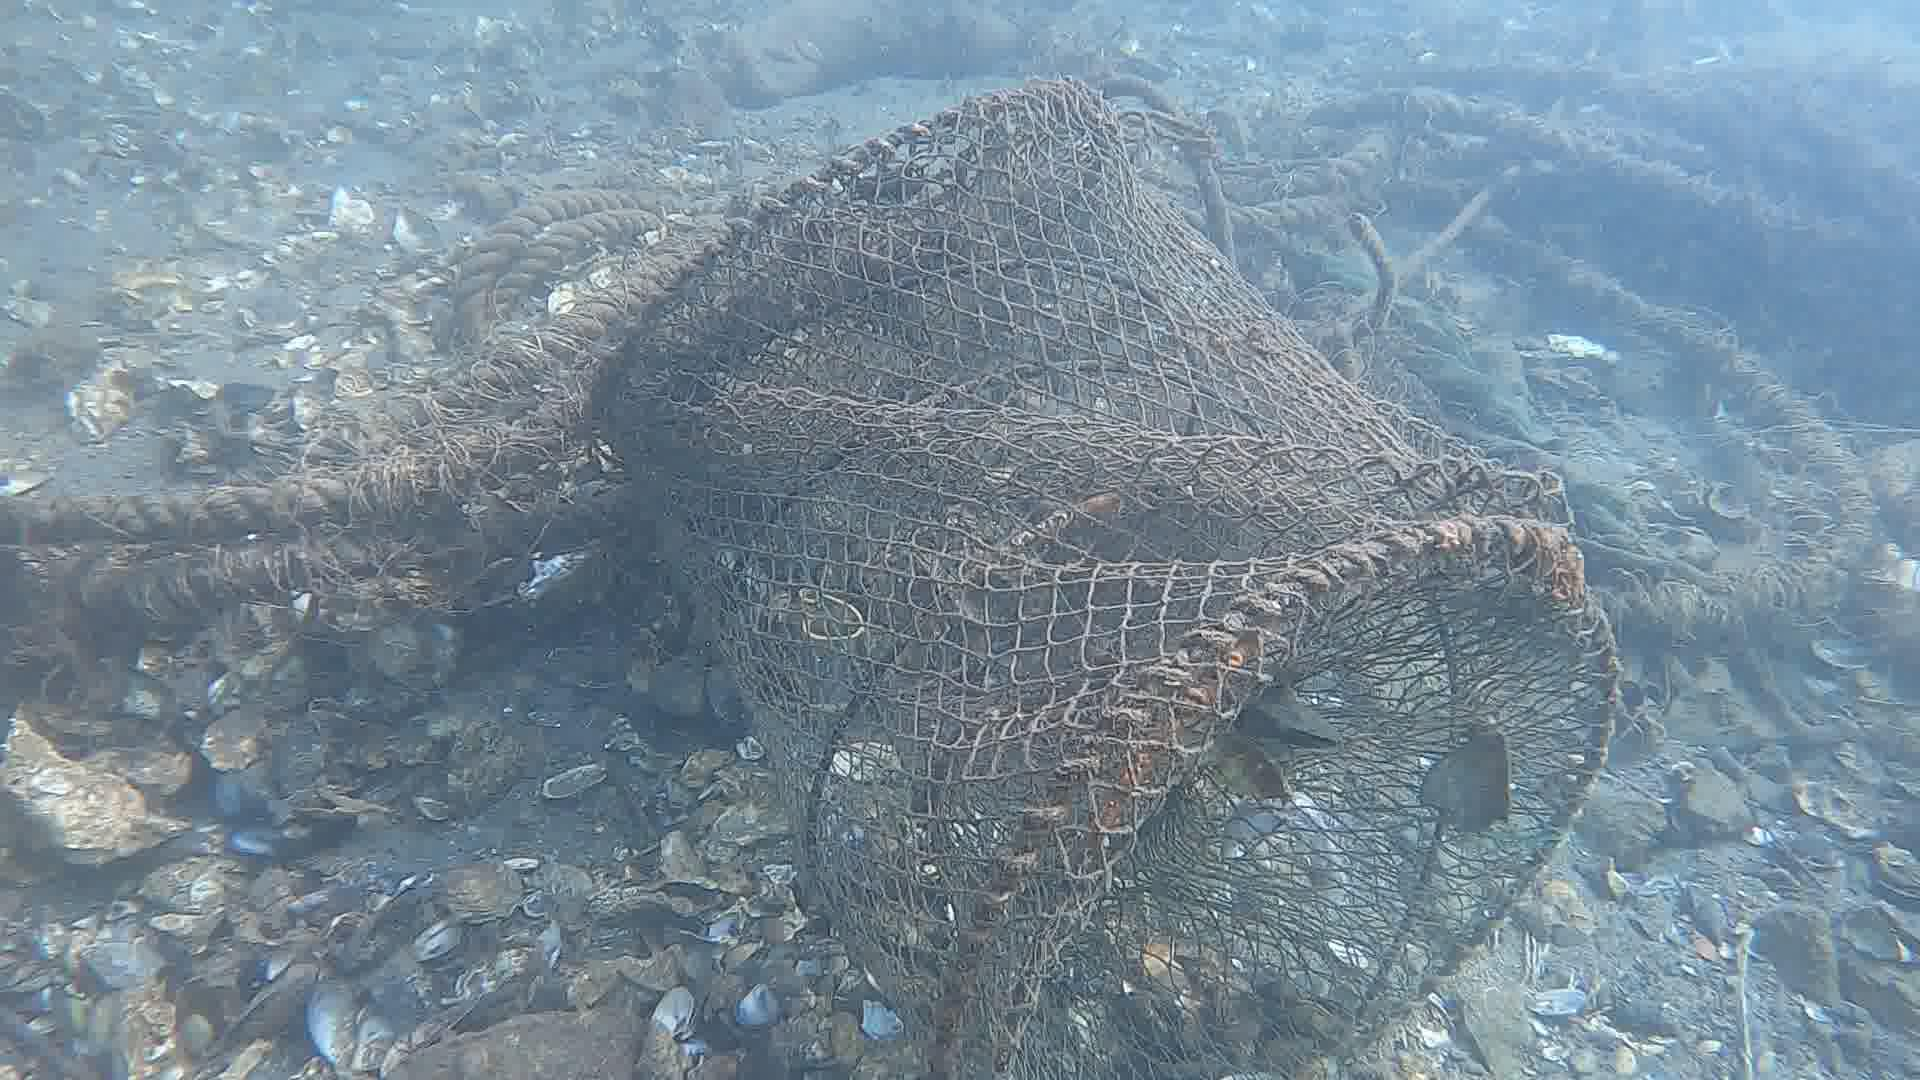bundle of ropes: (0, 473, 340, 593), (455, 185, 655, 320), (1229, 127, 1396, 229)
spring fish trap: (585, 73, 1625, 1080)
